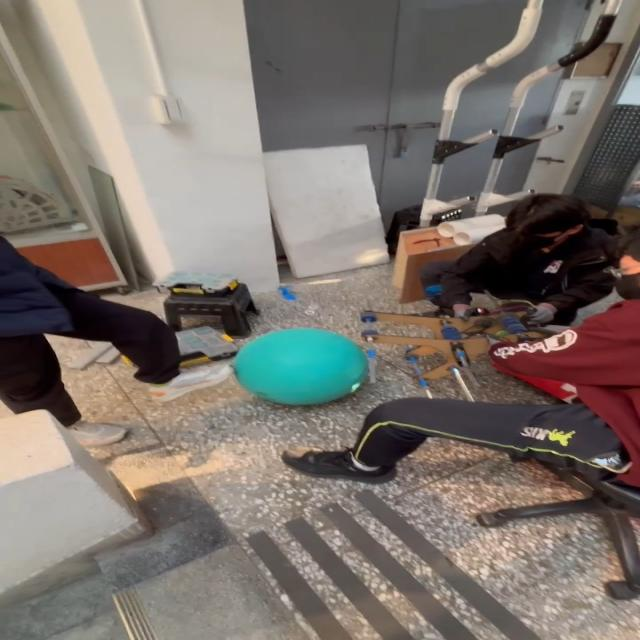ALGAE: (230, 326, 370, 406)
